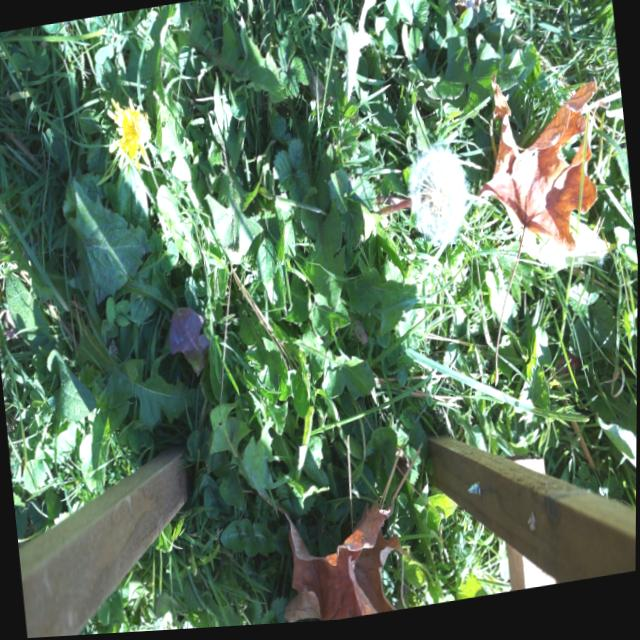base: (367, 200, 389, 235)
